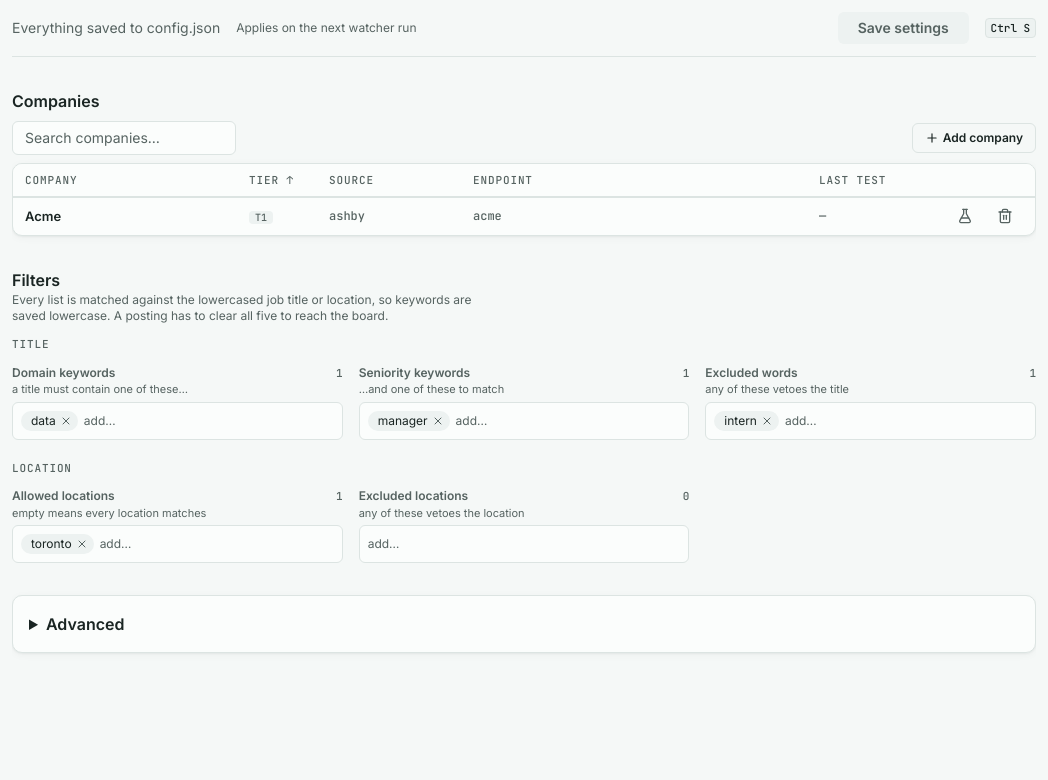
Test: SettingsPage › tests a company from its row and leaves the result in the row
The image size is (1048, 780).
Expected: the button "Acme" is shown, [25,206,61,226]
Click the button named "Test Acme". click: (965, 216)
box: [947,198,983,234]
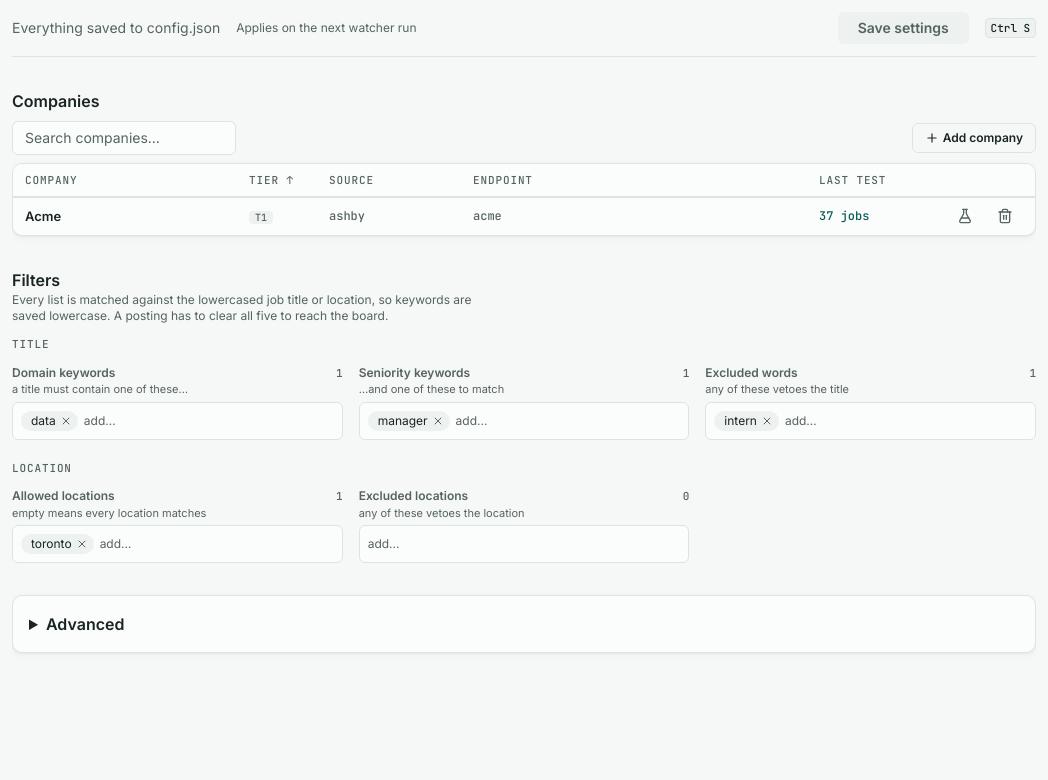
Expected: the text "37 jobs" is shown, [819,208,869,224]
